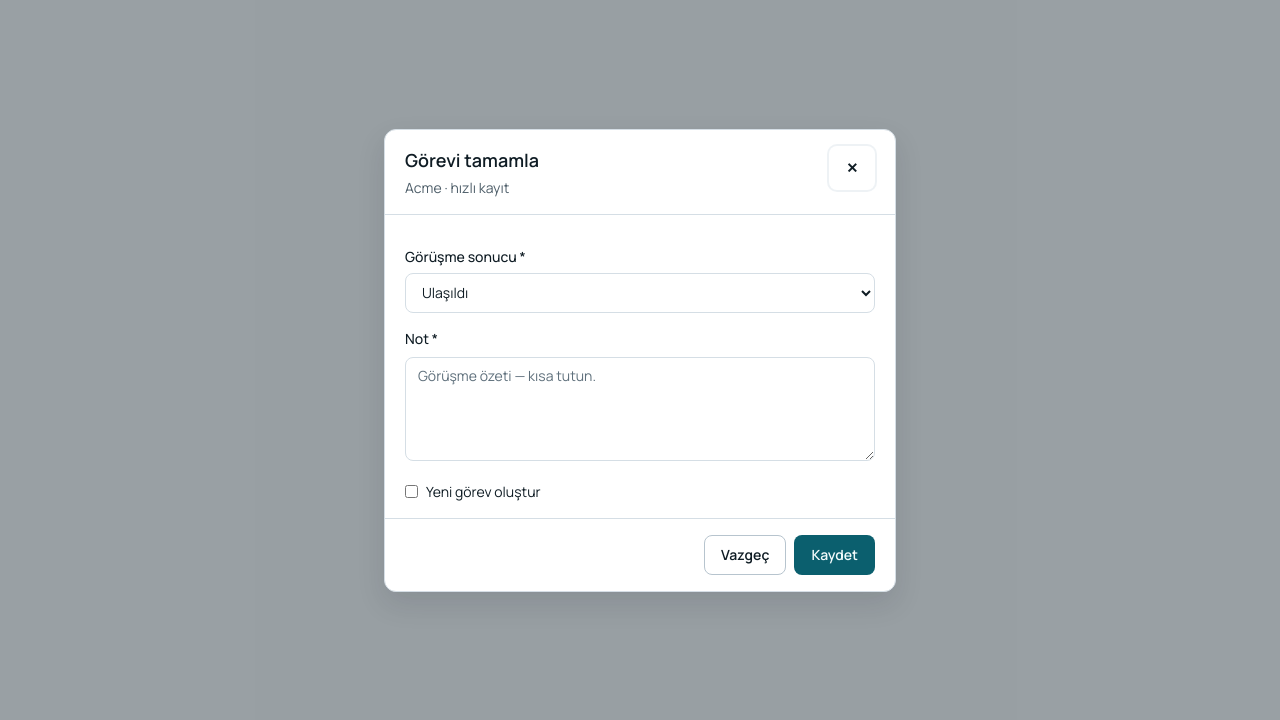
Scenario: CompleteTaskModal › shows promise fields when PROMISE_GIVEN selected
Select "Ödeme sözü verdi" in the dropdown labelled "Görüşme sonucu *" at (640, 292), box [405,272,875,312]
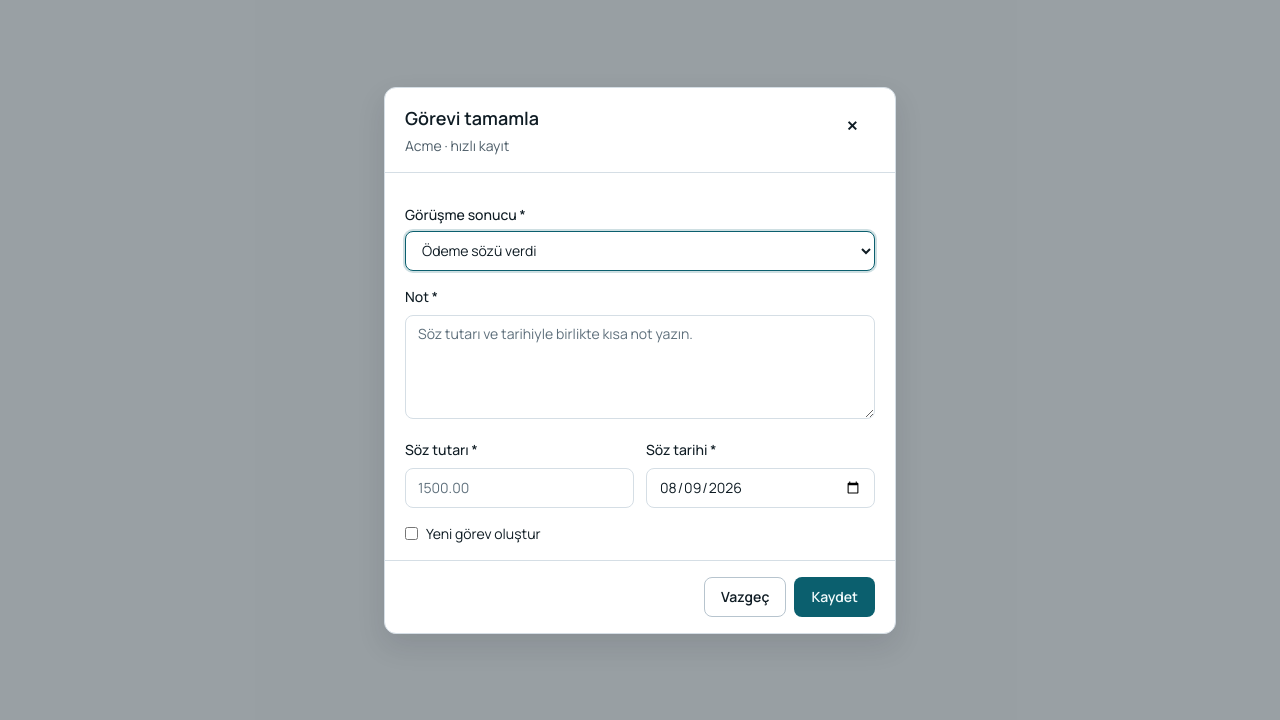
Now the field labelled "Söz tutarı *" is shown, box [405,468,634,508]
Now the date field labelled "Söz tarihi *" is shown, box [646,468,875,508]
